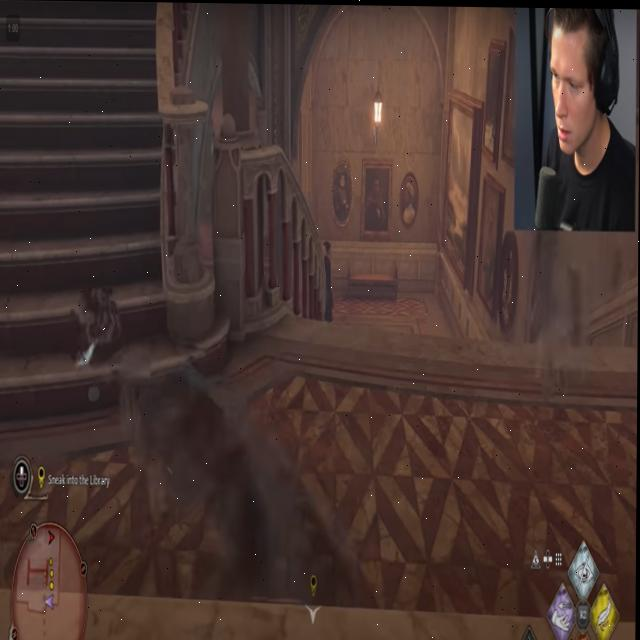compass: (39, 466, 46, 490)
